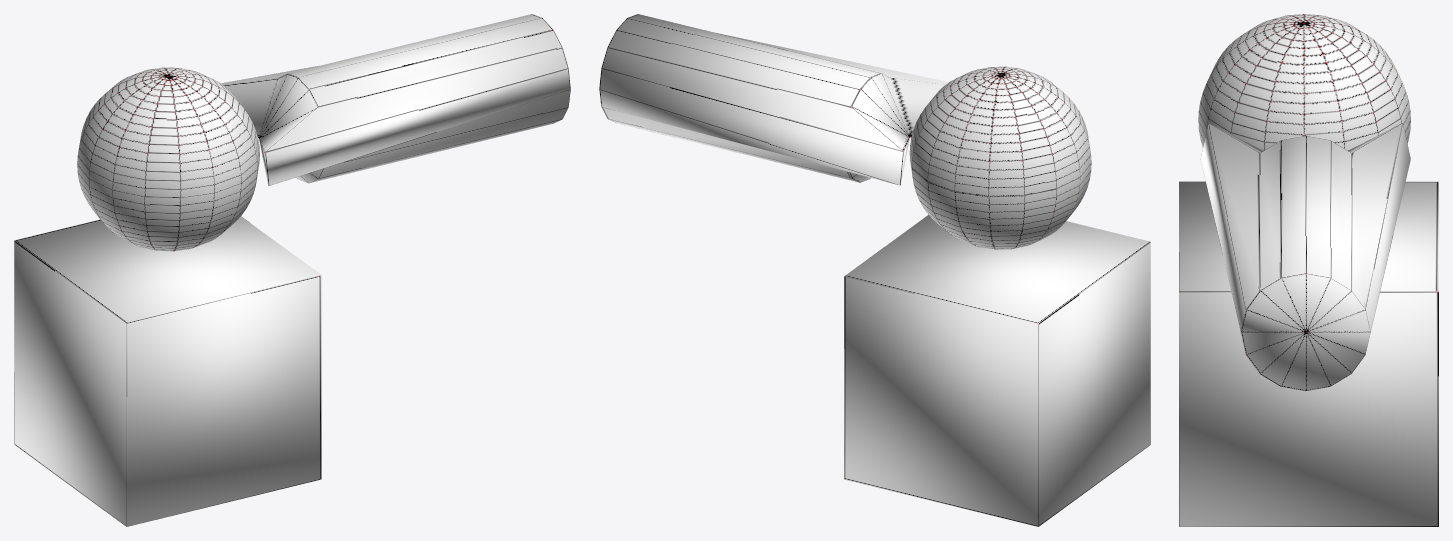
The model's file is arty_tex.fbx.
3 renders of one model, left to right at view 1: azimuth 30°, elevation 25°; view 2: azimuth 150°, elevation 25°; view 3: azimuth 270°, elevation 25°, orthographic. The views are drawn at different scales.
Visible parts, largest first — view 1: baseM, cannonM, turretM; view 2: baseM, cannonM, turretM; view 3: baseM, cannonM, turretM.
Part boxes in pixels (bbox=[...]): baseM: bbox=[14, 216, 321, 526]; cannonM: bbox=[221, 14, 570, 186]; turretM: bbox=[77, 67, 259, 251]; baseM: bbox=[844, 215, 1150, 526]; cannonM: bbox=[599, 14, 948, 185]; turretM: bbox=[909, 66, 1091, 249]; baseM: bbox=[1179, 181, 1438, 526]; cannonM: bbox=[1200, 123, 1410, 391]; turretM: bbox=[1198, 14, 1410, 150].
Bounding box in the file's own units: 4.83 × 3.8 × 2.
3 materials, 3 textured.
